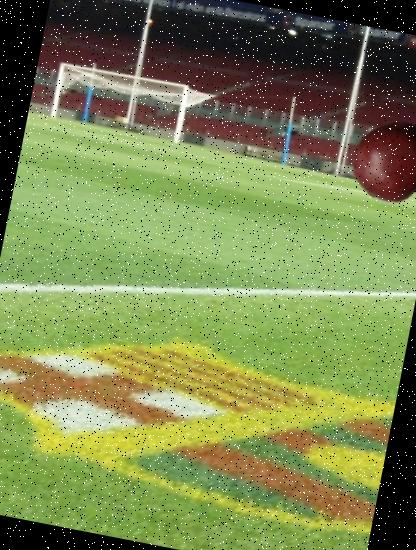Pomegranate: (344, 111, 416, 211)
